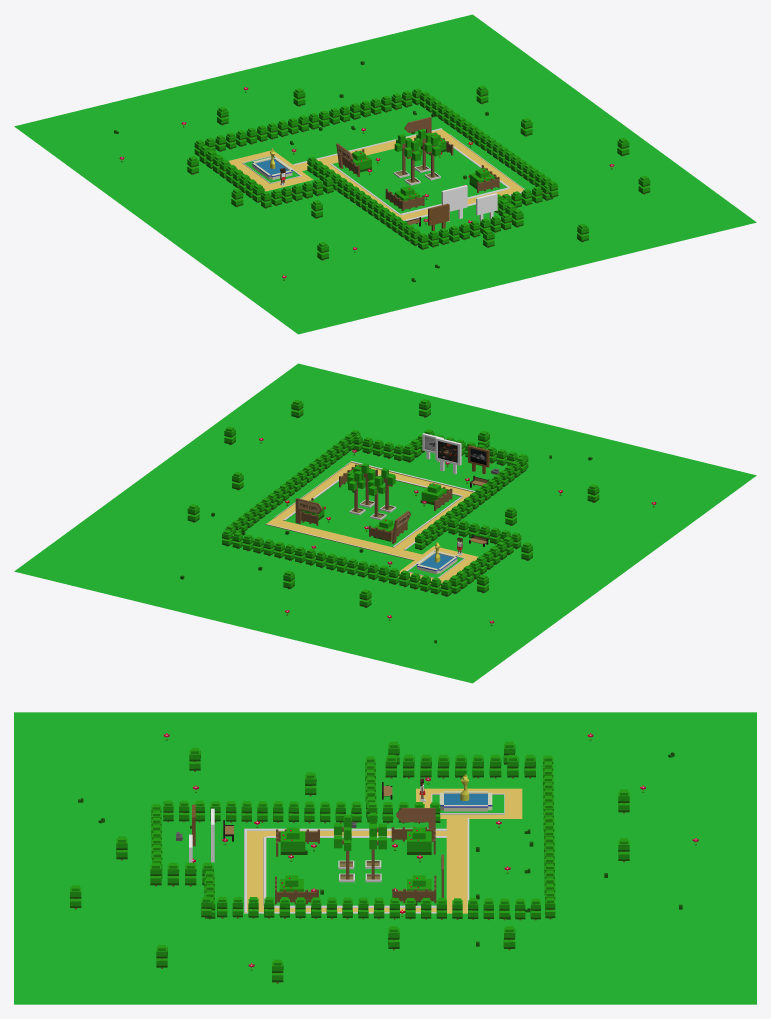
The model's file is portPractice.glb.
3 views of the same model, one above another, from view 1: azimuth 30°, elevation 25°; view 2: azimuth 150°, elevation 25°; view 3: azimuth 270°, elevation 25° (orthographic). The views are drawn at different scales.
Parts seen in each view (by area): view 1: Level, Project2; view 2: Level, Project2; view 3: Level.
Boxes of the visible parts, box(x1,y1,x2,y2) form: Level: box(14, 14, 756, 334); Project2: box(441, 185, 467, 221); Level: box(14, 363, 756, 683); Project2: box(435, 437, 461, 474); Level: box(14, 712, 756, 1004).
Bounding box in the file's own units: 734 × 61.37 × 788.
Materials: 35 (3 with a texture image).
